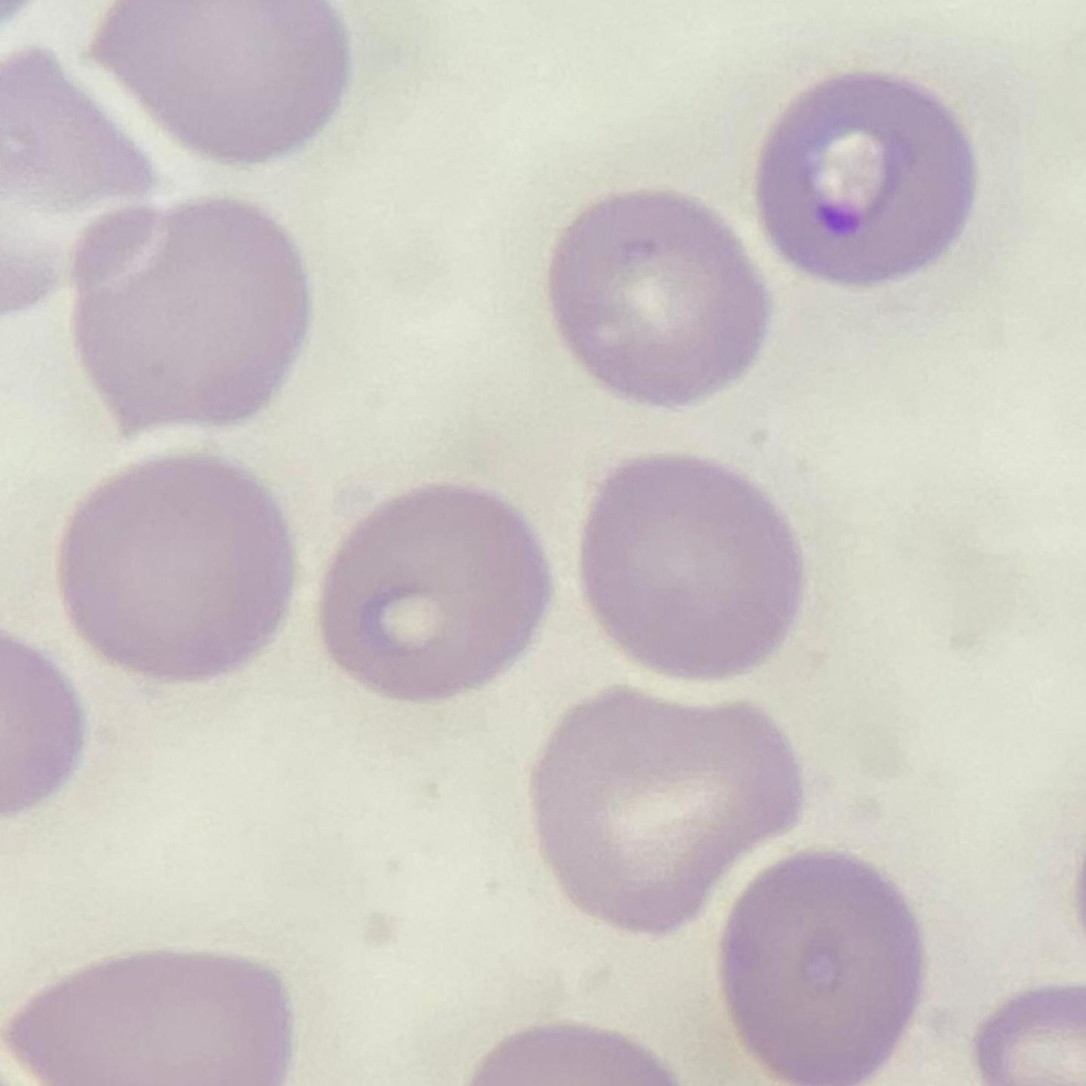Infected: (760, 72, 977, 289)
Uninfected: (526, 687, 808, 934), (72, 191, 315, 441), (58, 451, 298, 682), (319, 481, 556, 699), (551, 187, 772, 409), (723, 853, 932, 1086), (579, 457, 799, 676), (87, 0, 353, 163), (15, 948, 295, 1086)
